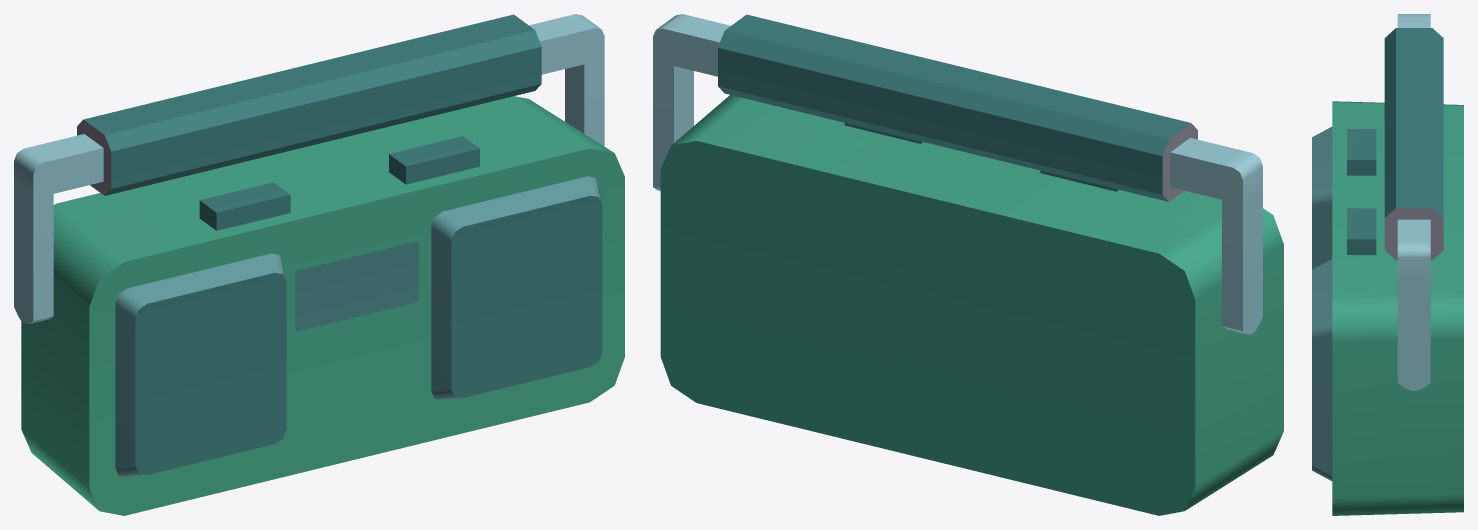
File: boombox break.fbx
3 renders of one model, left to right at view 1: azimuth 30°, elevation 25°; view 2: azimuth 150°, elevation 25°; view 3: azimuth 270°, elevation 25°, orthographic. The views are drawn at different scales.
Visible parts, largest first — view 1: polySurface53, polySurface51, polySurface49, polySurface52; view 2: polySurface53, polySurface51, polySurface49; view 3: polySurface51, polySurface49, polySurface53, polySurface52.
Boxes of the visible parts, x1,y1,x2,y2 form: polySurface53: [21, 147, 398, 515]; polySurface51: [303, 96, 624, 450]; polySurface49: [14, 14, 604, 324]; polySurface52: [389, 136, 479, 184]; polySurface53: [894, 150, 1283, 515]; polySurface51: [660, 95, 958, 454]; polySurface49: [653, 14, 1262, 334]; polySurface51: [1312, 207, 1463, 515]; polySurface49: [1384, 14, 1443, 390]; polySurface53: [1312, 101, 1463, 269]; polySurface52: [1347, 208, 1376, 254].
Size of the model in its own units: 193 by 113 by 51.9.
Materials: 1 (1 with a texture image).
